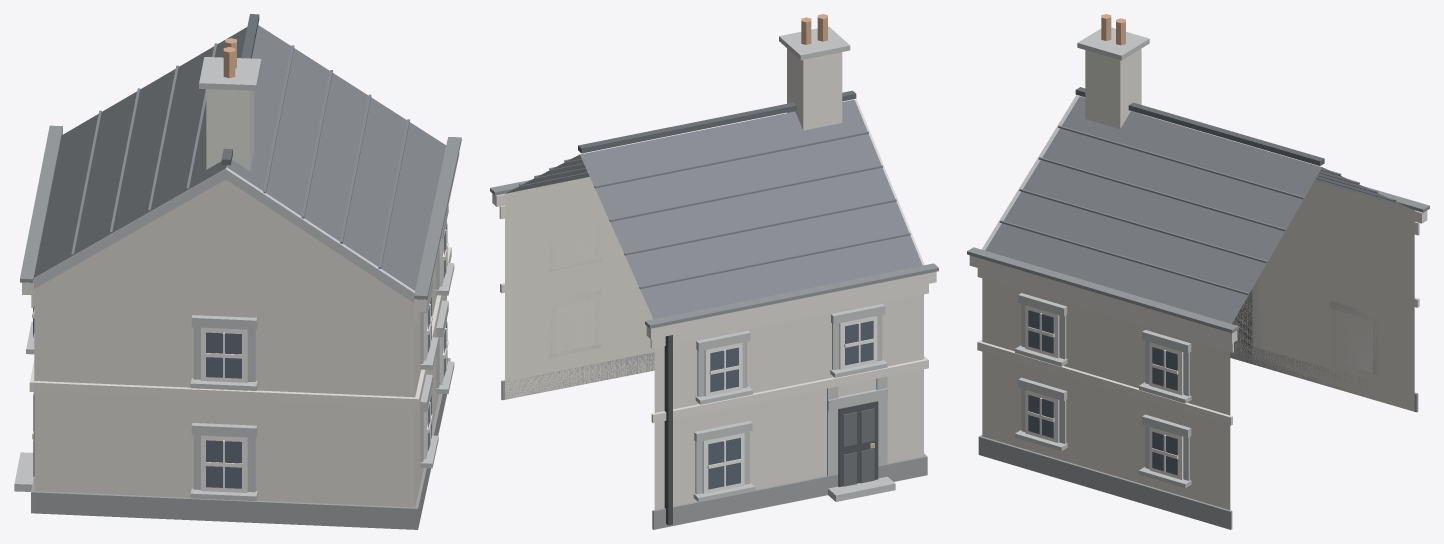
The picture shows the model from 3 angles, left to right: view 1: azimuth 30°, elevation 25°; view 2: azimuth 150°, elevation 25°; view 3: azimuth 270°, elevation 25°; orthographic projection. The views are drawn at different scales.
Visible parts, largest first — view 1: harl_grey, slate, stone_band, plinth, string, lead, slate_lt, frame, chim_render, window_glass_004, window_glass_005, slate_dk (+1 smaller); view 2: harl_grey, slate, stone_band, string, plinth, slate_lt, chim_render, frame, lead, slate_dk, door_dark_p, pipe (+5 smaller); view 3: harl_grey, slate, stone_band, string, plinth, frame, slate_lt, chim_render, lead, slate_dk, window_glass_007, window_glass_009 (+4 smaller).
Part boxes in pixels (x1,y1,x2,y2): harl_grey: (34, 179, 446, 507); slate: (34, 25, 446, 290); stone_band: (14, 57, 454, 501); plinth: (31, 357, 450, 529); string: (22, 132, 459, 408); lead: (20, 125, 461, 299); slate_lt: (71, 43, 409, 268); frame: (32, 224, 448, 492); chim_render: (206, 89, 254, 171); window_glass_004: (206, 440, 241, 488); window_glass_005: (206, 332, 241, 378); slate_dk: (221, 14, 259, 165); harl_grey: (505, 176, 923, 509); slate: (506, 99, 922, 319); stone_band: (548, 26, 924, 501); string: (492, 189, 936, 423); plinth: (501, 352, 927, 529); slate_lt: (519, 131, 910, 288); chim_render: (787, 48, 842, 130); frame: (557, 223, 877, 493); lead: (490, 180, 938, 328); slate_dk: (578, 90, 856, 153); door_dark_p: (843, 408, 874, 486); pipe: (664, 335, 672, 525); harl_grey: (982, 181, 1414, 509); slate: (985, 96, 1413, 323); stone_band: (981, 27, 1378, 488); string: (969, 182, 1427, 425); plinth: (978, 342, 1418, 529); frame: (1025, 305, 1372, 479); slate_lt: (999, 125, 1396, 295); chim_render: (1085, 48, 1141, 128); lead: (967, 186, 1429, 333); slate_dk: (1075, 87, 1324, 165); window_glass_007: (1028, 310, 1053, 353); window_glass_009: (1152, 347, 1177, 390).
Size of the model in its own units: 10.63 by 9.69 by 10.41.
